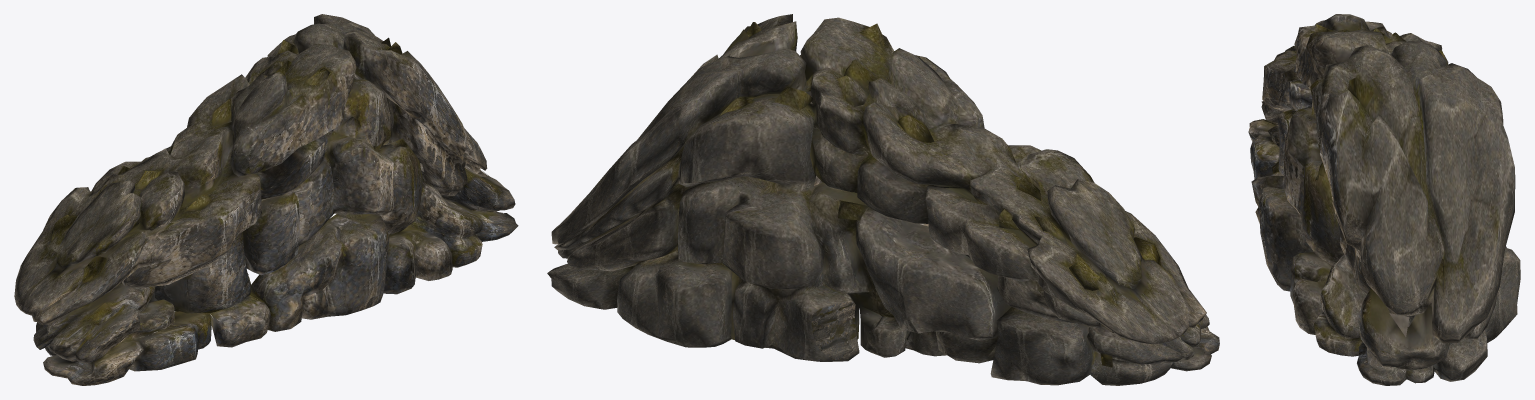
File: sculpted-headland.glb
The picture shows the model from 3 angles, left to right: view 1: azimuth 30°, elevation 25°; view 2: azimuth 150°, elevation 25°; view 3: azimuth 270°, elevation 25°; orthographic projection. The views are drawn at different scales.
Visible parts, largest first — view 1: Sculpted_headland_LOD0; view 2: Sculpted_headland_LOD0; view 3: Sculpted_headland_LOD0.
Part boxes in pixels (left/top/right/bottom): Sculpted_headland_LOD0: left=14, top=14, right=518, bottom=385; Sculpted_headland_LOD0: left=547, top=14, right=1219, bottom=385; Sculpted_headland_LOD0: left=1248, top=14, right=1520, bottom=385.
Size of what is drawn, in the model's own units: 184 by 82.89 by 80.63.
1 material, 1 textured.
